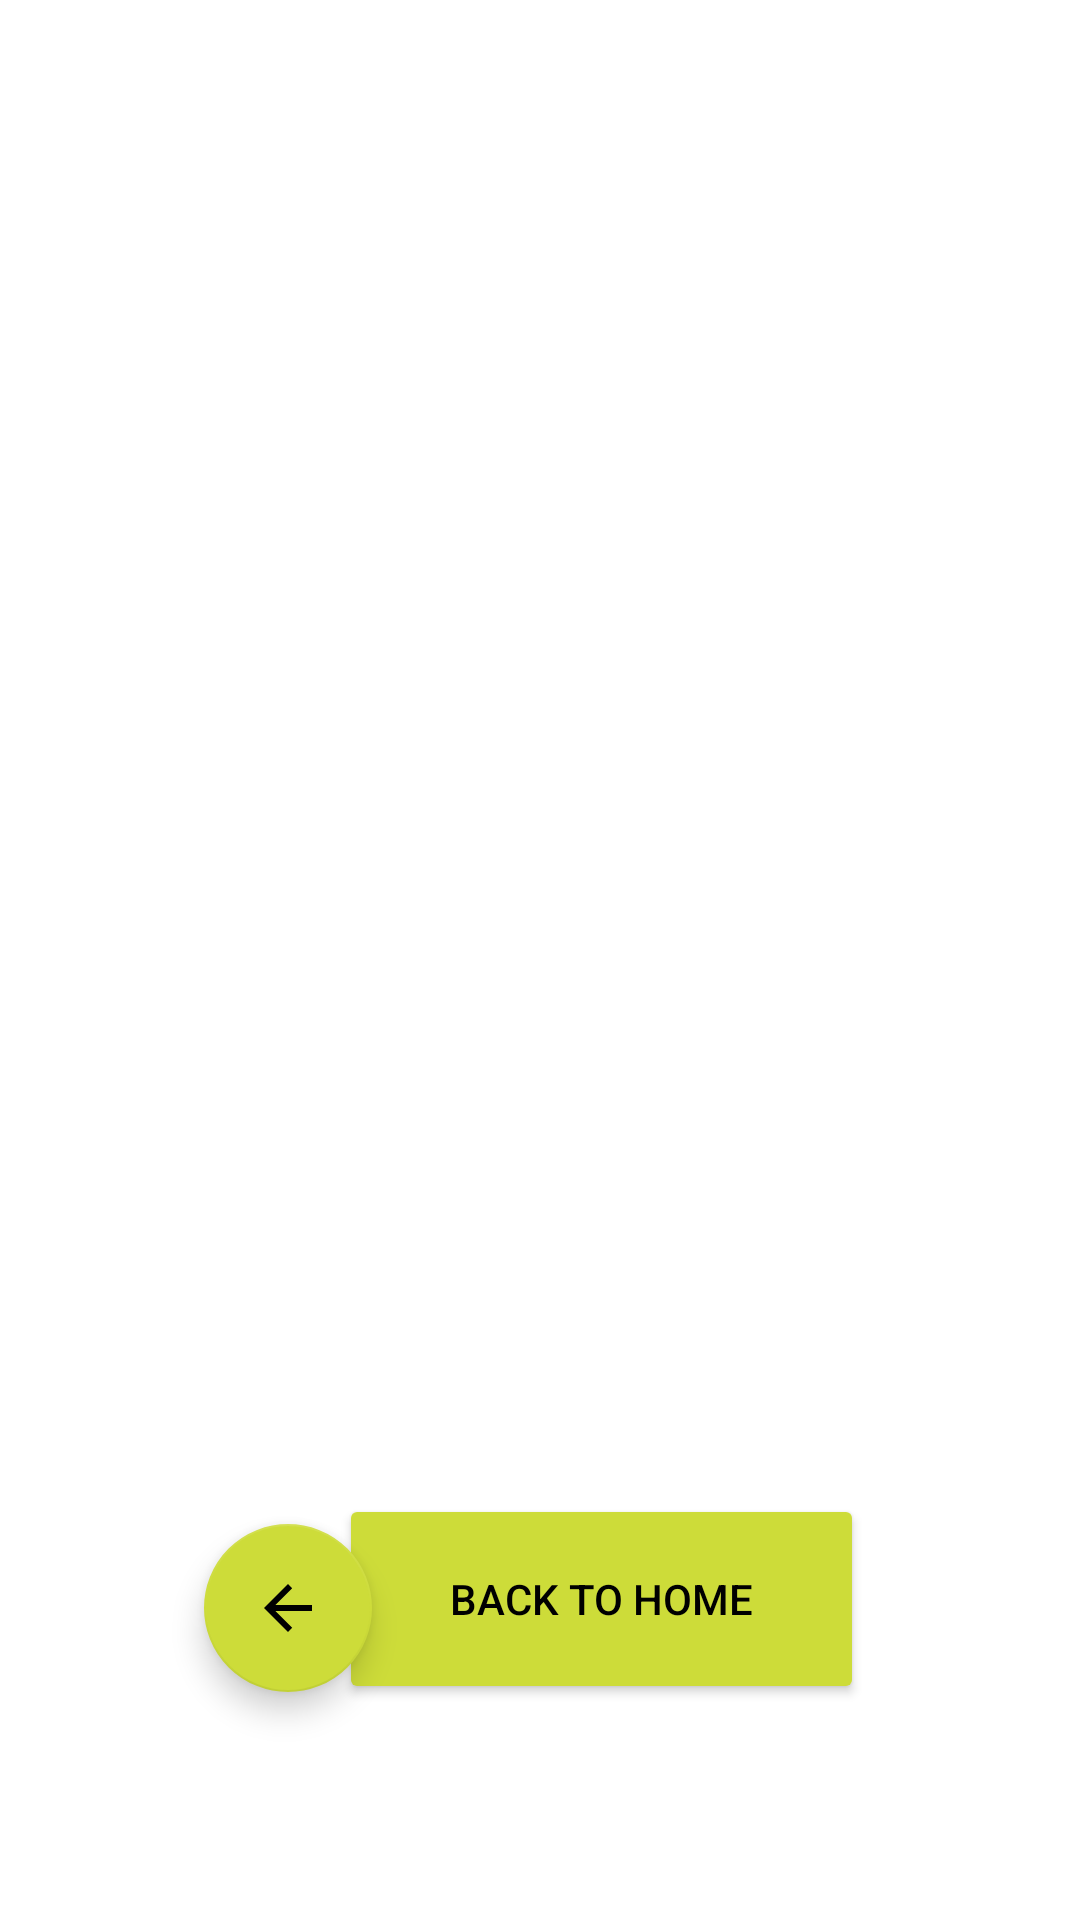

Screen size 1080px x 1920px. Icon name, then its center in pixels as point (x, y):
Back to Previous Screen: point (288, 1608)
